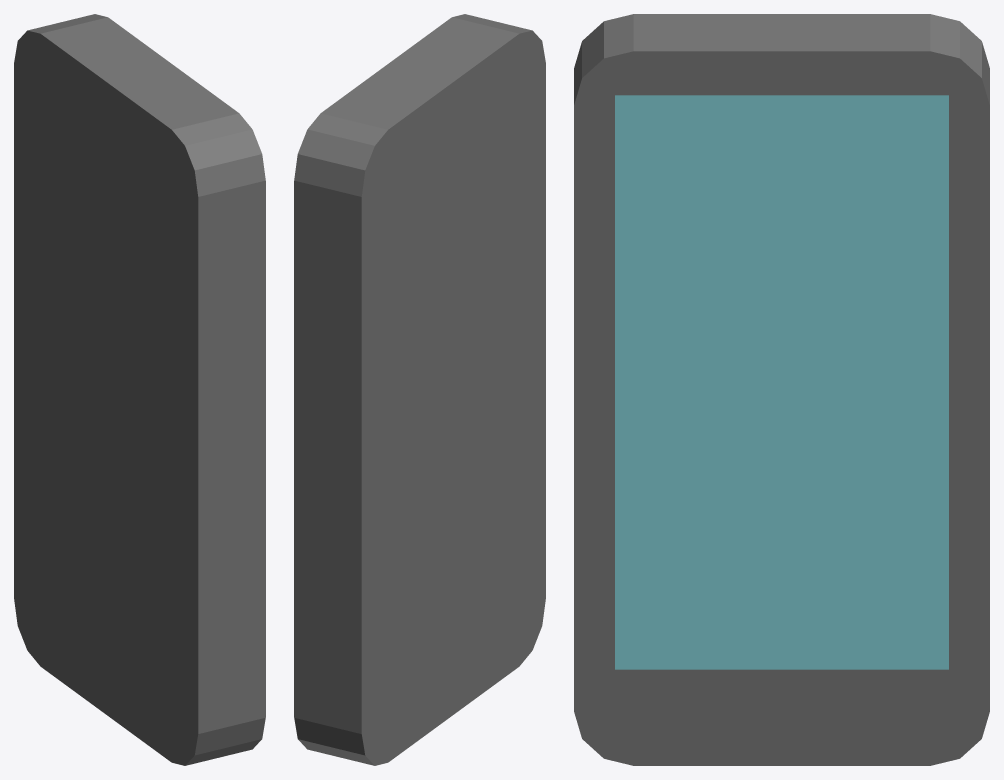
The model's file is smartphone.fbx.
3 views of the same model, side by side, from view 1: azimuth 30°, elevation 25°; view 2: azimuth 150°, elevation 25°; view 3: azimuth 270°, elevation 25° (orthographic). The views are drawn at different scales.
Visible parts, largest first — view 1: Cube; view 2: Cube; view 3: Cube.
Boxes of the visible parts, <box> form: Cube: <box>14,14,265,765</box>; Cube: <box>294,14,545,765</box>; Cube: <box>574,14,989,765</box>.
Size of the model in its own units: 42.39 by 379 by 200.
